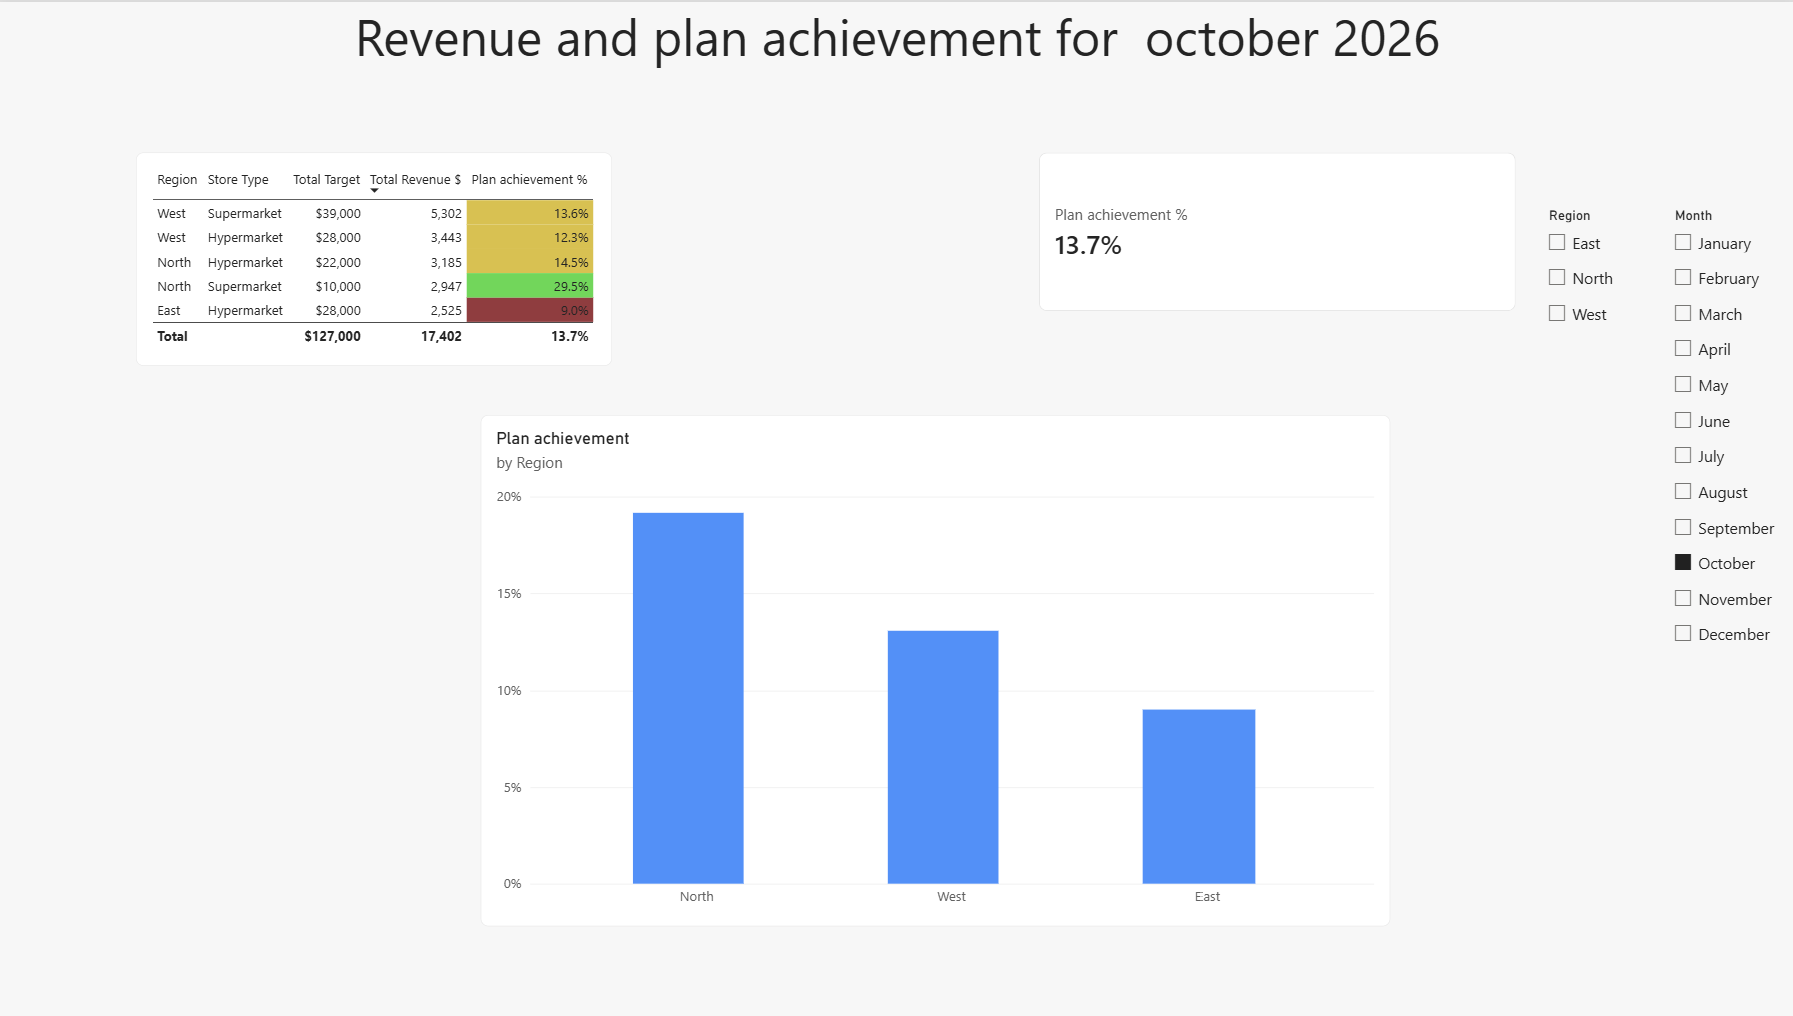

What the dashboard file says about the page in this screenshot:
{"tool":"powerbi","page":{"name":"Page 1","canvas":[1920,1080],"ordinal":0},"visuals":[{"type":"tableEx","fields":{"Values":["Stores.Region","Stores.Store Type","Targets.Total Target","Targets.Total Revenue","Sales.Plan achievement"]},"box":[150,160,507.1,227.1],"z":0},{"type":"cardVisual","fields":{"Data":["Sales.Plan achievement"]},"box":[1112,160,506,169],"z":1000},{"type":"clusteredColumnChart","fields":{"Category":["Stores.Region"],"Y":["Sales.Plan achievement"]},"box":[516,440,967.6,544],"z":2000},{"type":"slicer","fields":{"Values":["Stores.Region"]},"box":[1646,218,120.4,169.4],"z":3000},{"type":"slicer","fields":{"Values":["Calendar.Month"]},"box":[1780,218,140,494],"z":4000},{"type":"textbox","box":[0,0,1920,116],"z":5000}]}

Visuals, with their boxes in screenshot pixels (x1, y1, x2, y2), scaled from the page's 1920x1080 canvas onto the 1793x1016 screenshot:
tableEx - Stores.Region x Stores.Store Type: {"x1": 140, "y1": 151, "x2": 614, "y2": 364}
cardVisual - Sales.Plan achievement: {"x1": 1038, "y1": 151, "x2": 1511, "y2": 310}
clusteredColumnChart - Stores.Region x Sales.Plan achievement: {"x1": 482, "y1": 414, "x2": 1385, "y2": 926}
slicer - Stores.Region: {"x1": 1537, "y1": 205, "x2": 1650, "y2": 364}
slicer - Calendar.Month: {"x1": 1662, "y1": 205, "x2": 1792, "y2": 670}
textbox: {"x1": 0, "y1": 0, "x2": 1792, "y2": 109}
